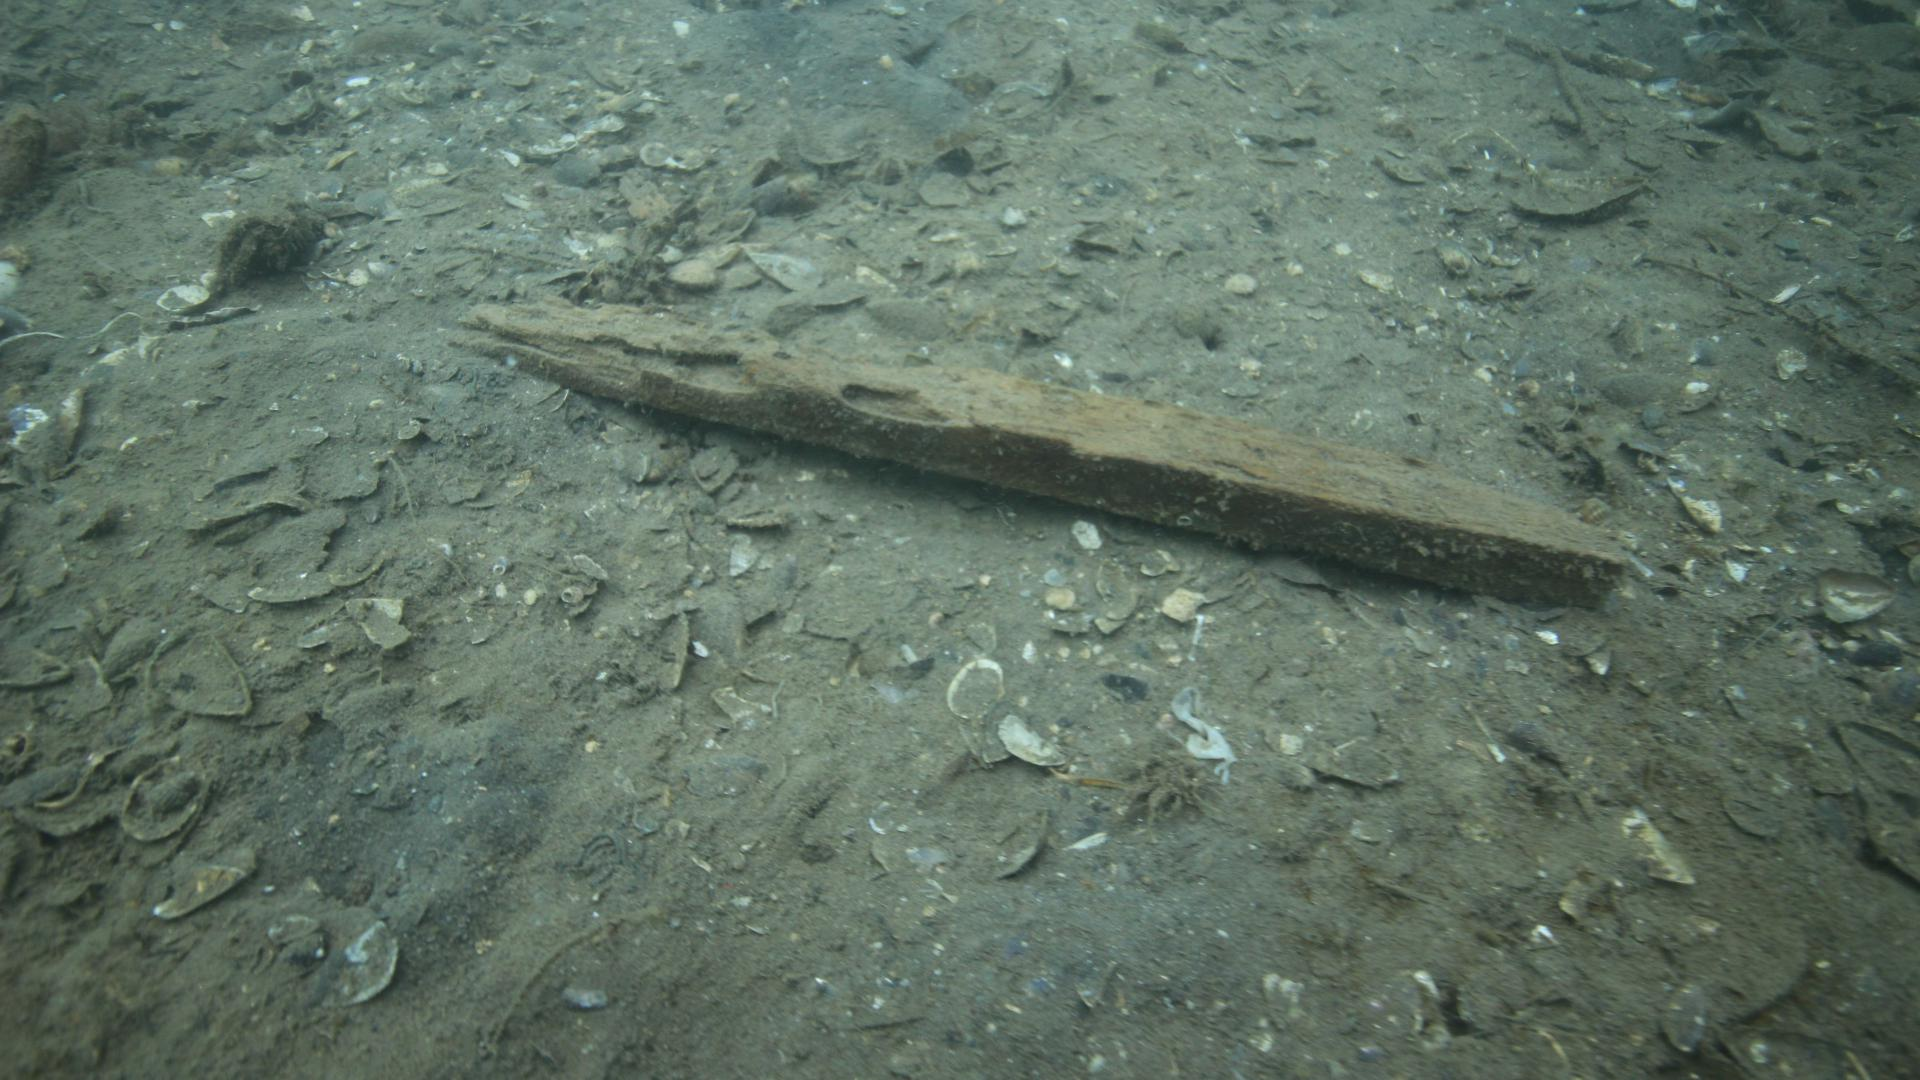wood: (442, 284, 1634, 618)
